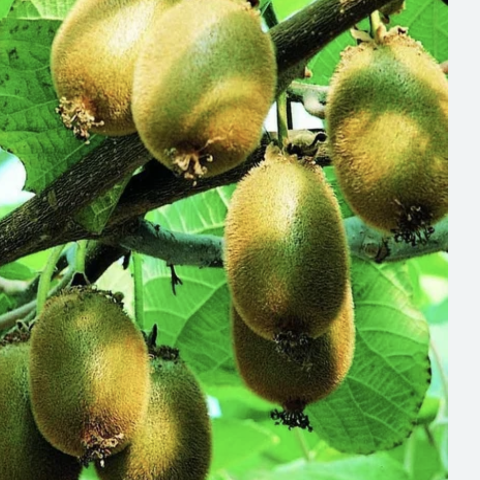kiwi: (307, 32, 479, 263), (204, 140, 367, 352), (129, 0, 308, 178), (13, 284, 160, 457)
